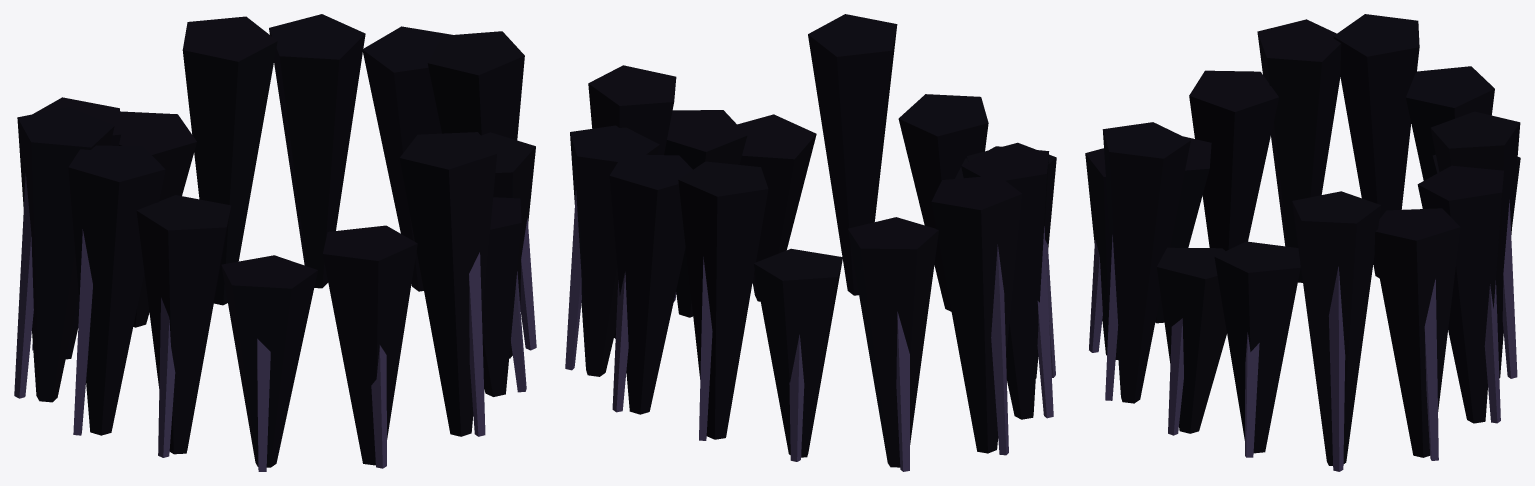
The model's file is hero_karma_body_10.glb.
3 renders of one model, left to right at view 1: azimuth 30°, elevation 25°; view 2: azimuth 150°, elevation 25°; view 3: azimuth 270°, elevation 25°, orthographic. The views are drawn at different scales.
Parts seen in each view (by area): view 1: hero_karma_body_10; view 2: hero_karma_body_10; view 3: hero_karma_body_10.
Boxes of the visible parts, x1,y1,x2,y2 form: hero_karma_body_10: (14, 14, 536, 471); hero_karma_body_10: (565, 14, 1056, 471); hero_karma_body_10: (1085, 14, 1520, 471).
Bounding box in the file's own units: 0.5844 × 0.3329 × 0.5059.
